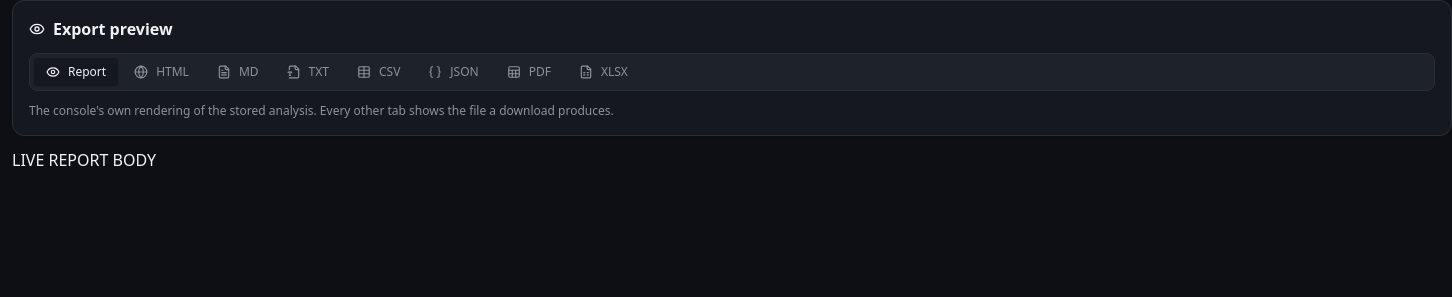
Test: ReportPreview › reports a failed render and offers a retry
What coordinates should you click on to do the following:
click the tab "MD"
I would click on:
 (238, 72)
Its box is [205, 58, 271, 86].
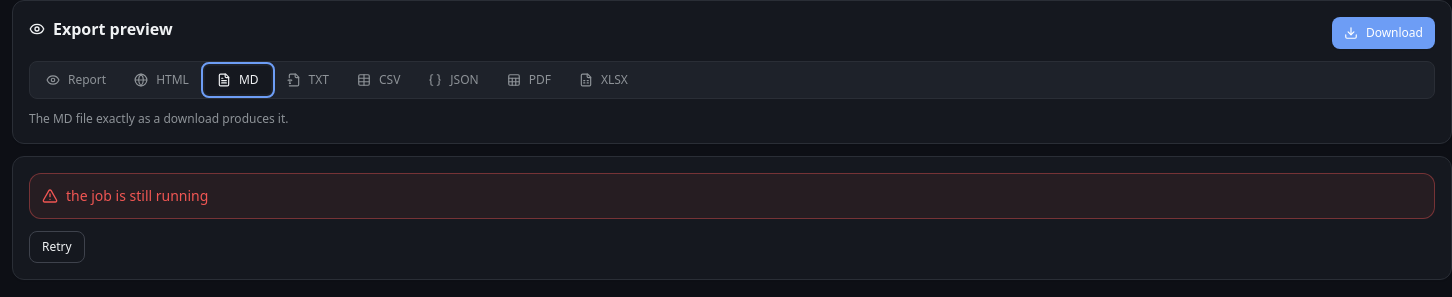
Check: the text "the job is still running" is shown, box [66, 186, 208, 205]
Check: the button "Retry" is shown, box [29, 231, 85, 263]
